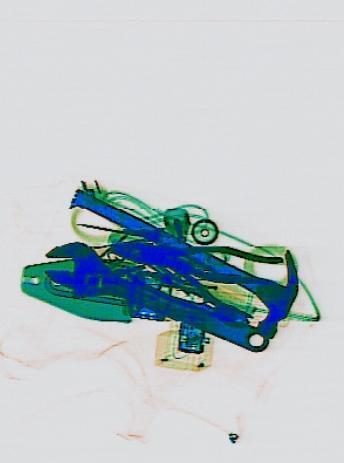Pliers: (107, 226, 284, 292)
Wrench: (36, 228, 274, 375)
